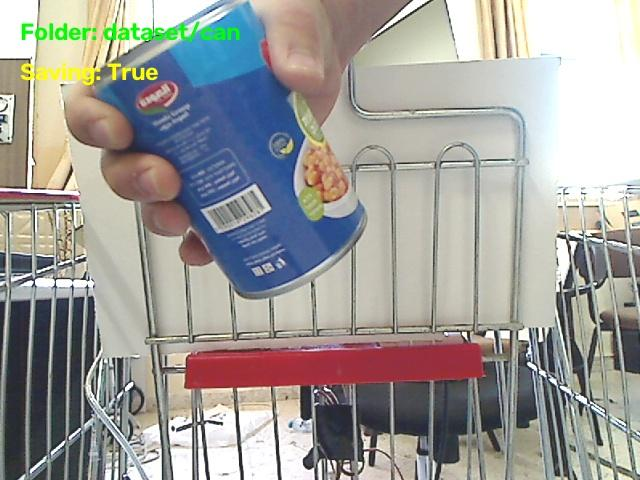can: (96, 0, 365, 298)
